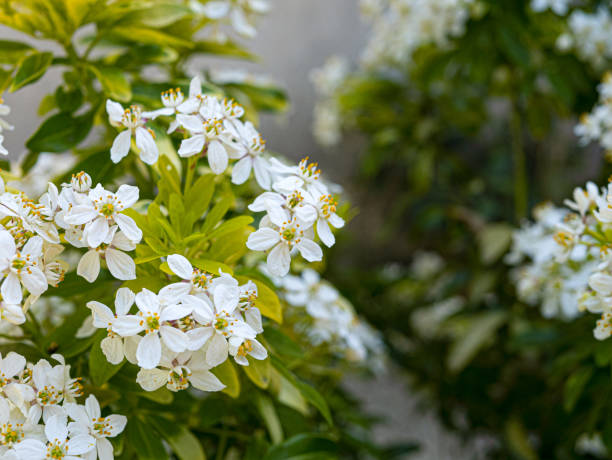flower: (111, 292, 196, 372), (180, 284, 255, 368), (249, 204, 324, 279), (95, 96, 168, 168), (64, 182, 146, 246), (76, 211, 143, 285), (4, 363, 76, 428), (62, 395, 128, 460), (177, 108, 240, 174), (21, 414, 98, 458), (277, 267, 341, 318), (226, 122, 274, 188), (266, 150, 330, 196), (557, 177, 609, 231), (298, 191, 346, 248), (549, 232, 595, 263), (244, 106, 248, 112)
